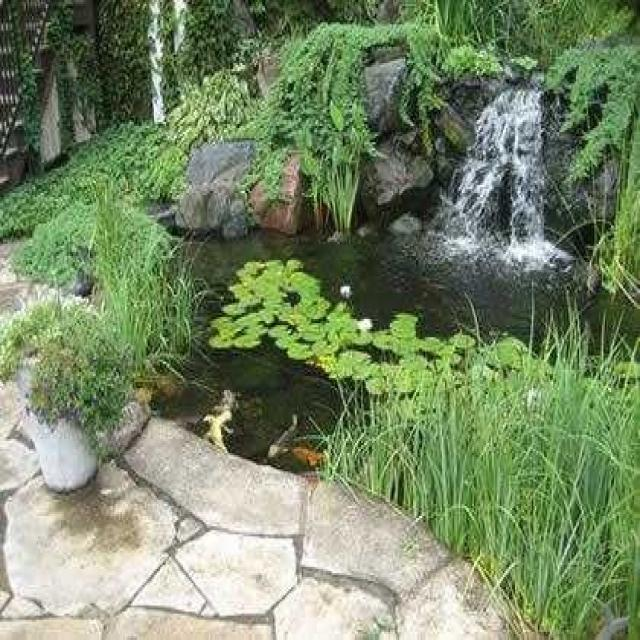Ponds: (86, 61, 640, 640)
